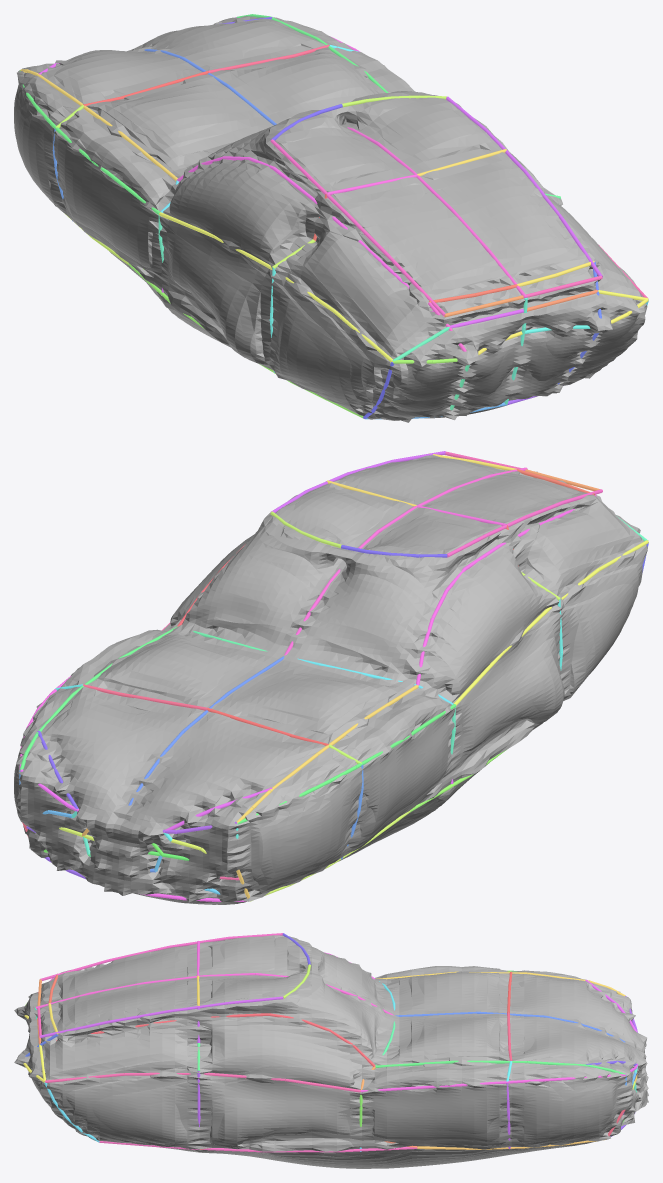
The model's file is ils_car2.gltf.
3 views of the same model, one above another, from view 1: azimuth 30°, elevation 25°; view 2: azimuth 150°, elevation 25°; view 3: azimuth 270°, elevation 25° (orthographic). The views are drawn at different scales.
Bounding box in the file's own units: 0.4031 × 0.3005 × 0.9221.
